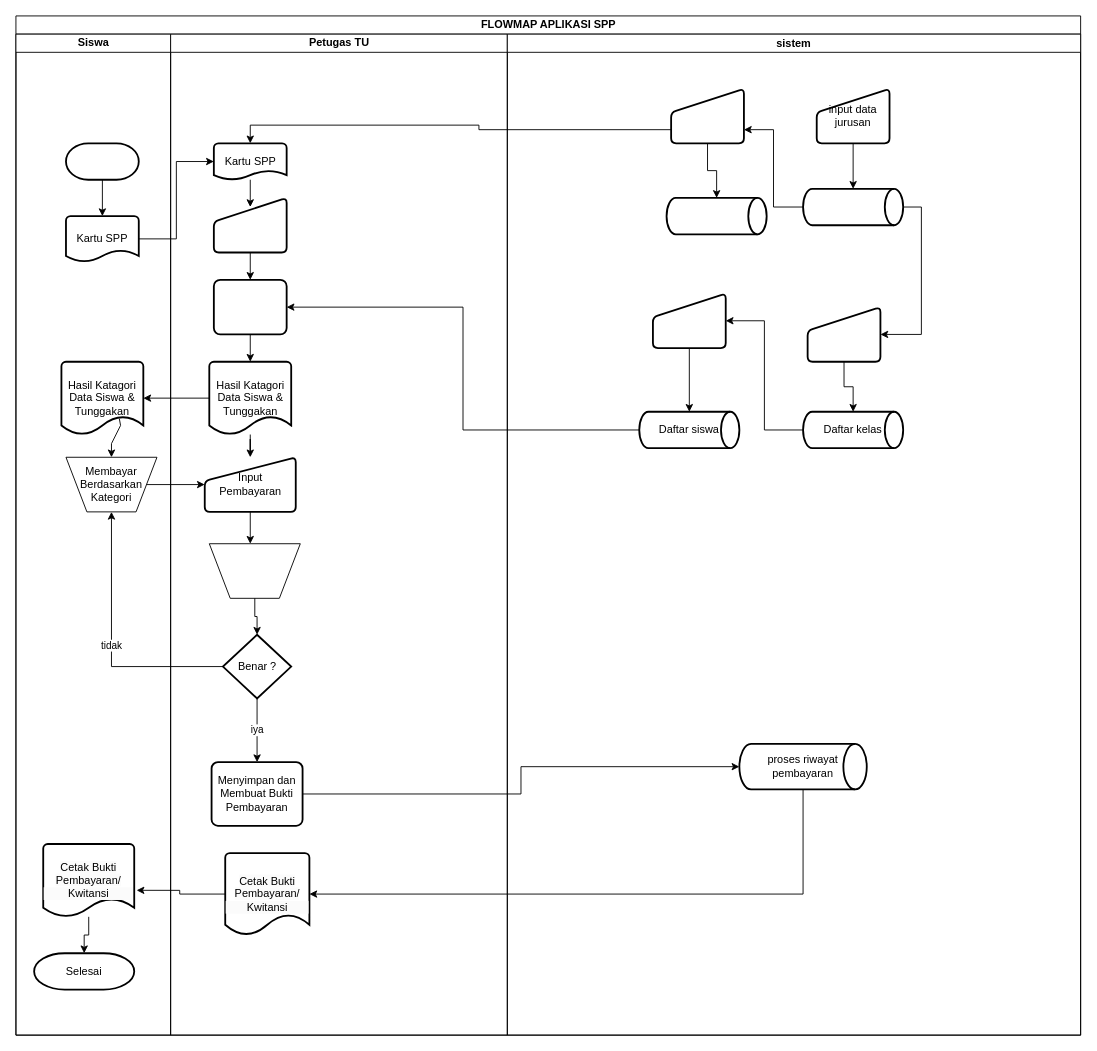
The diagram is 1097 pixels wide and 1051 high, and some of its shapes have lost their labels. The centre of each missing label's shape, as x and y in pixels:
Daftar jurusan: (853,206)
Daftar user: (716,216)
input data kelas: (843,334)
input data siswa: (689,320)
input data user: (707,115)
Input Kartu Siswa: (249,225)
Konfirmasi Pembayaran: (254,570)
Mengecek Katagori Siswa & Tunggakan: (249,306)
Mulai: (102,161)
